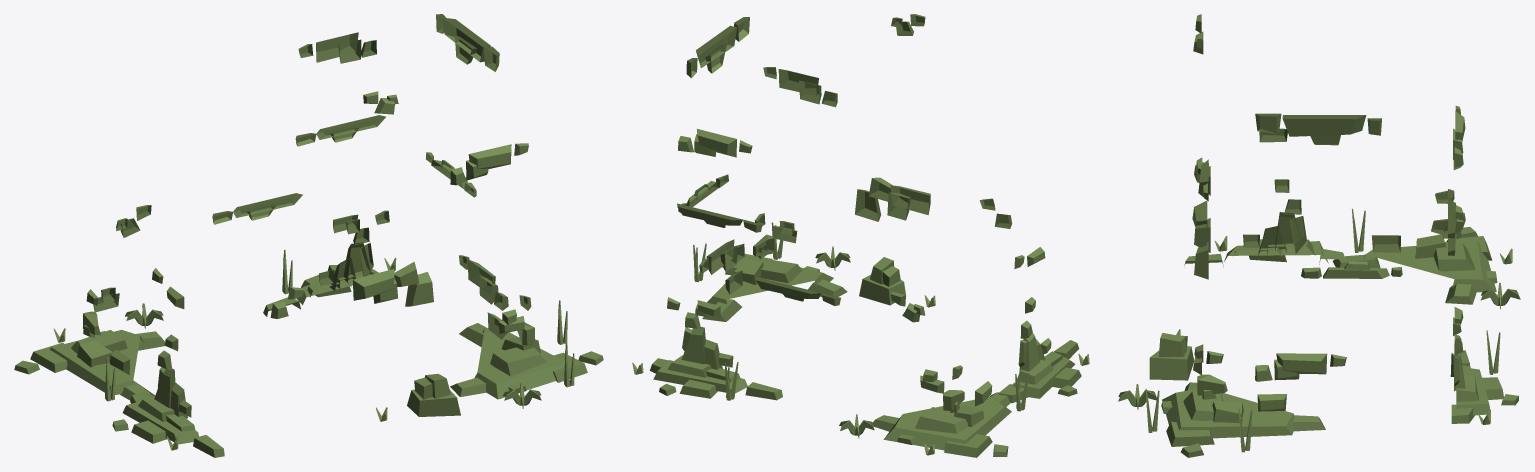
File: SA_Bld_OfficeBlue_Growth_04.gltf
3 views of the same model, side by side, from view 1: azimuth 30°, elevation 25°; view 2: azimuth 150°, elevation 25°; view 3: azimuth 270°, elevation 25° (orthographic). The views are drawn at different scales.
Visible parts, largest first — view 1: SA_Bld_OfficeBlue_Growth_04; view 2: SA_Bld_OfficeBlue_Growth_04; view 3: SA_Bld_OfficeBlue_Growth_04.
Boxes of the visible parts, x1,y1,x2,y2 form: SA_Bld_OfficeBlue_Growth_04: (14,14,603,457); SA_Bld_OfficeBlue_Growth_04: (632,14,1089,457); SA_Bld_OfficeBlue_Growth_04: (1118,14,1520,457).
Size of the model in its own units: 28.73 by 19.42 by 21.54.
1 material, 1 textured.
